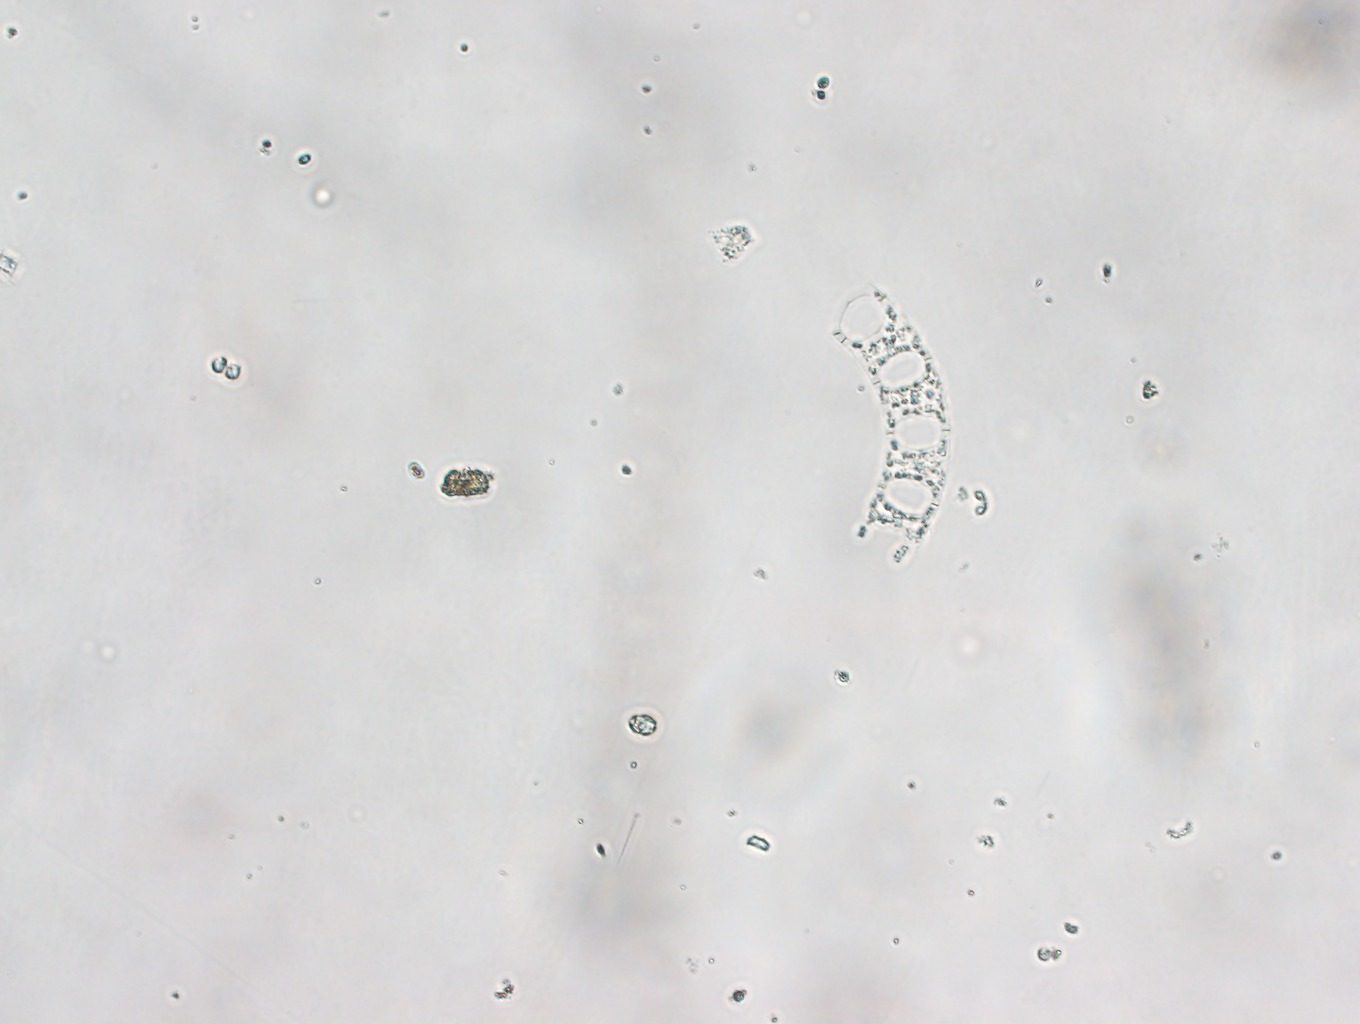eucampia: (813, 272, 955, 572)
